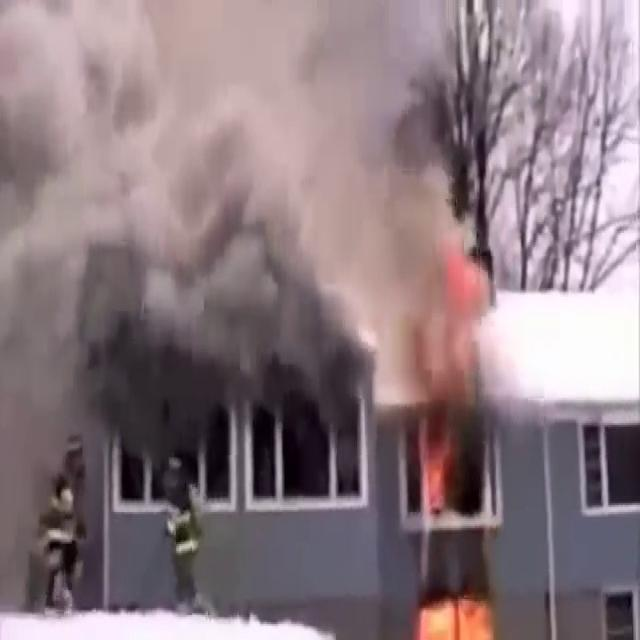Fire: (412, 575, 504, 639)
Smoke: (1, 0, 490, 373)
